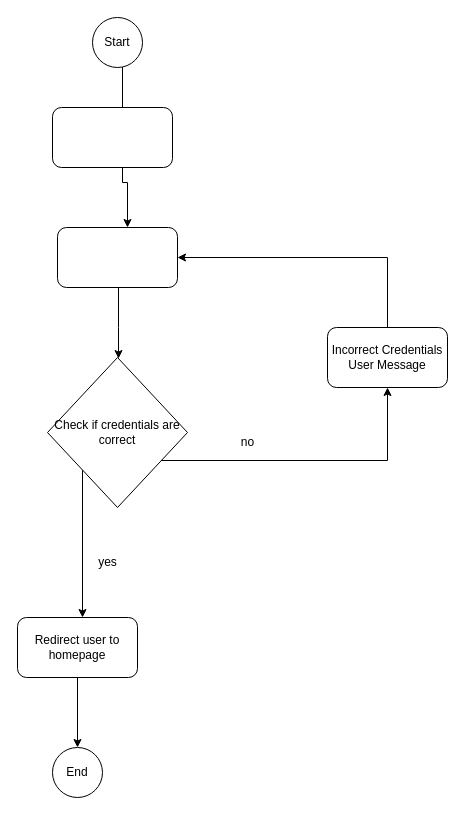
Image size: 465x815. Some labels were removed from this diagram. Each missing label, with the centre of its shape:
"User Enters the login Page" goes at point 112,137.
"User Enters Their Email and password" goes at point 117,257.
